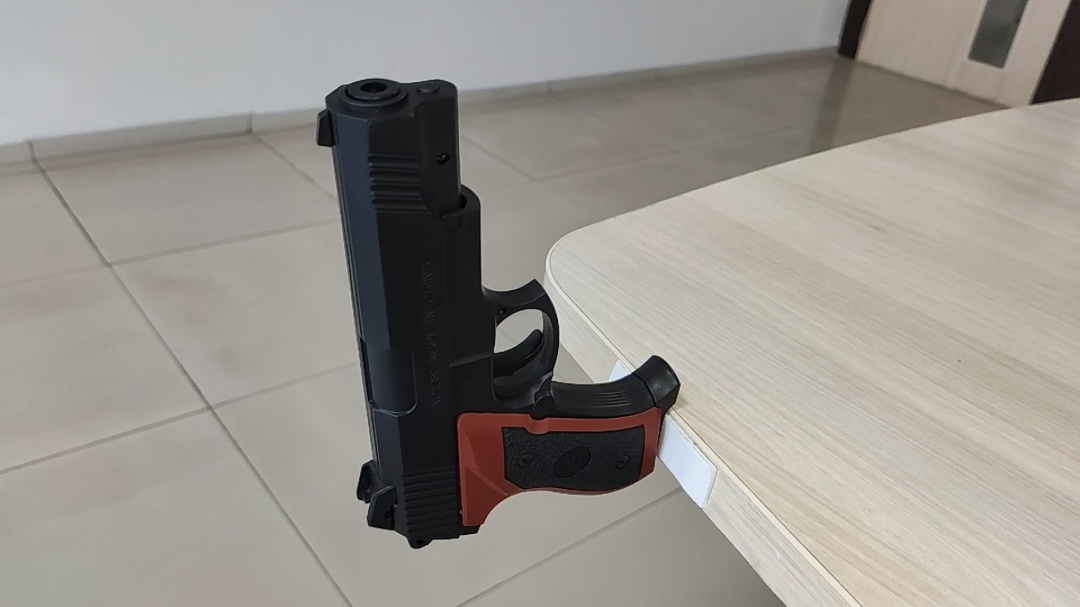gun: (314, 76, 685, 550)
